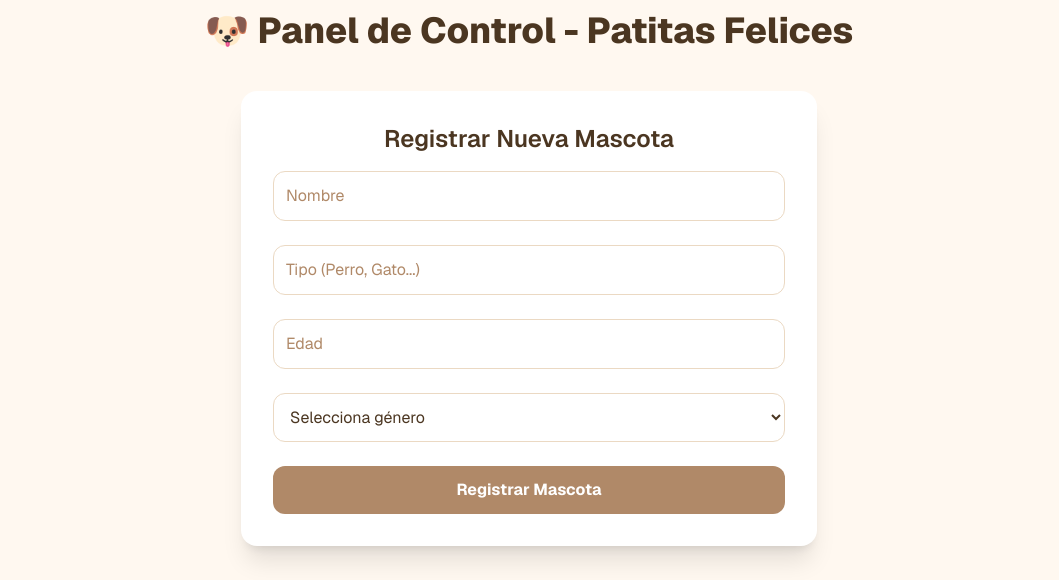
it: MascotasPage › muestra el formulario por defecto cuando no hay mascotas y permite registrar
Expected: the button "Registrar Mascota" is shown, x1=273 y1=466 x2=785 y2=514
Note: Llena y envía
In the field with placeholder "Nombre": (529, 196) x1=273 y1=170 x2=785 y2=220, type "Toby"
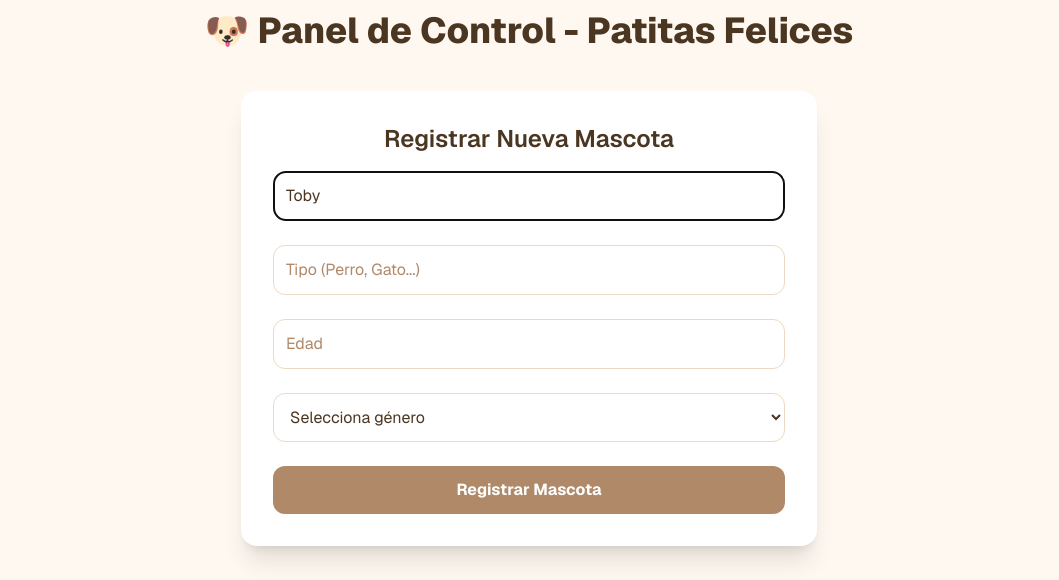
In the field with placeholder "Tipo (Perro, Gato...)": (529, 270) x1=273 y1=244 x2=785 y2=294, type "Perro"
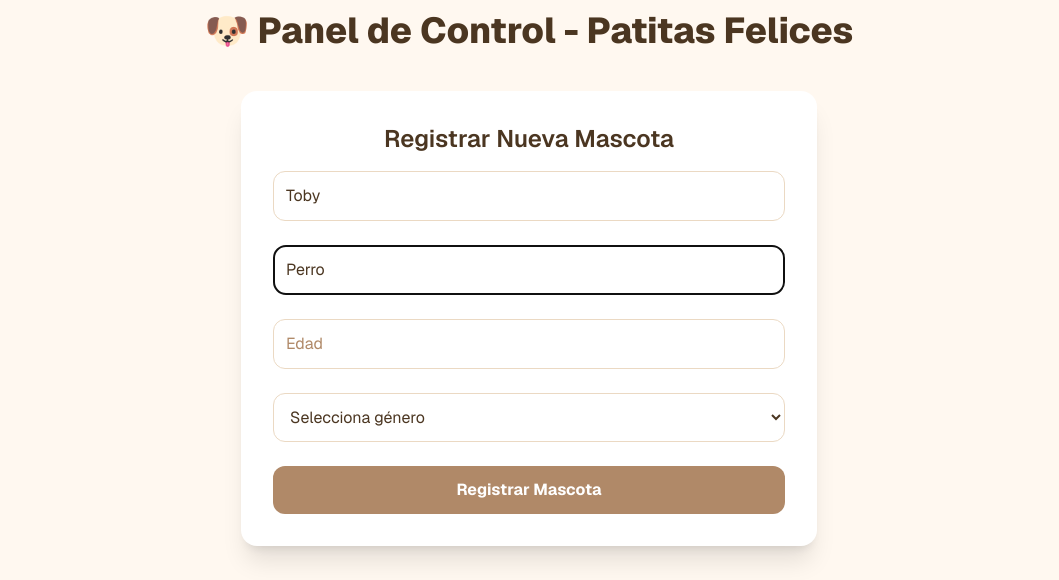
In the number field with placeholder "Edad": (529, 344) x1=273 y1=318 x2=785 y2=368, type "1"
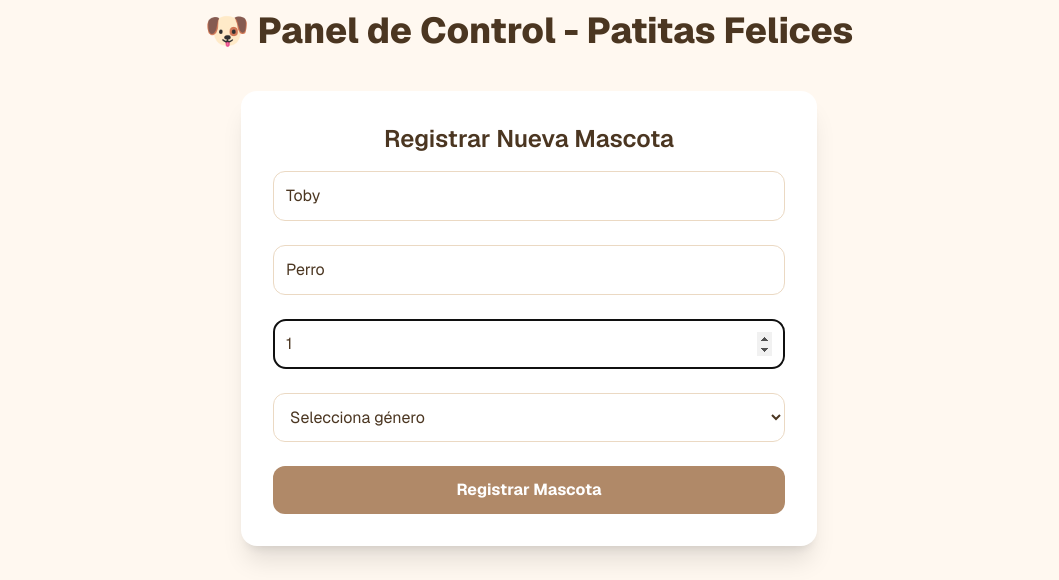
Select "Macho" in the dropdown: (529, 417) x1=273 y1=392 x2=785 y2=442
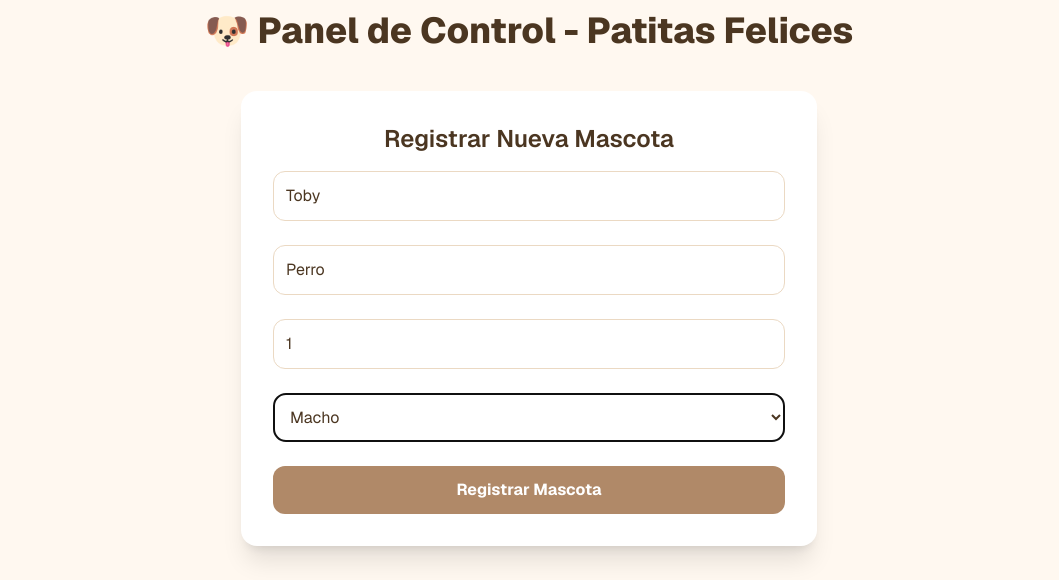
Click the button "Registrar Mascota": (529, 490) x1=273 y1=466 x2=785 y2=514
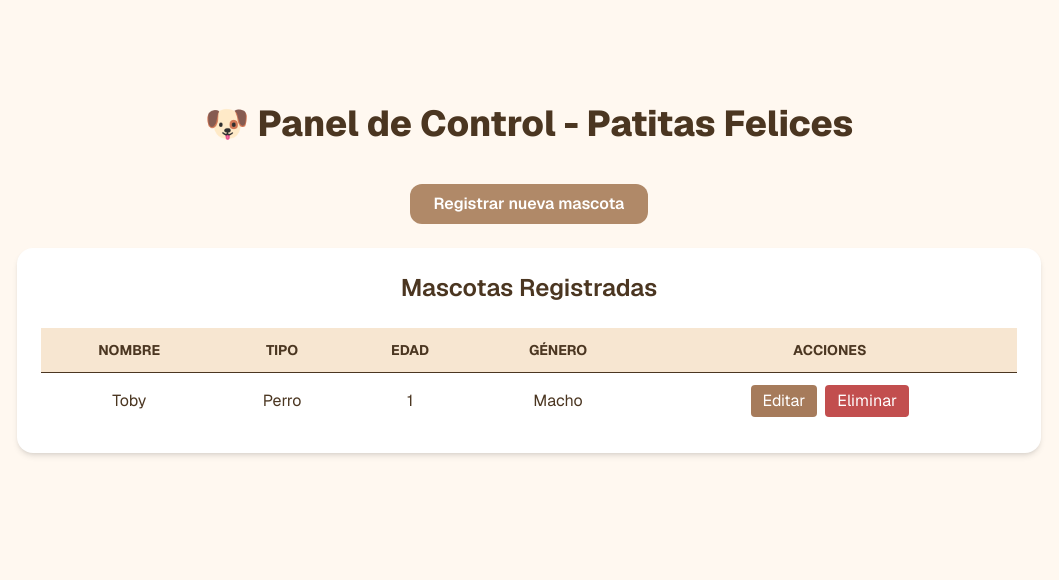
Result: the table is shown at x1=41 y1=328 x2=1017 y2=428
Result: the text "Toby" is shown at x1=41 y1=372 x2=218 y2=428
